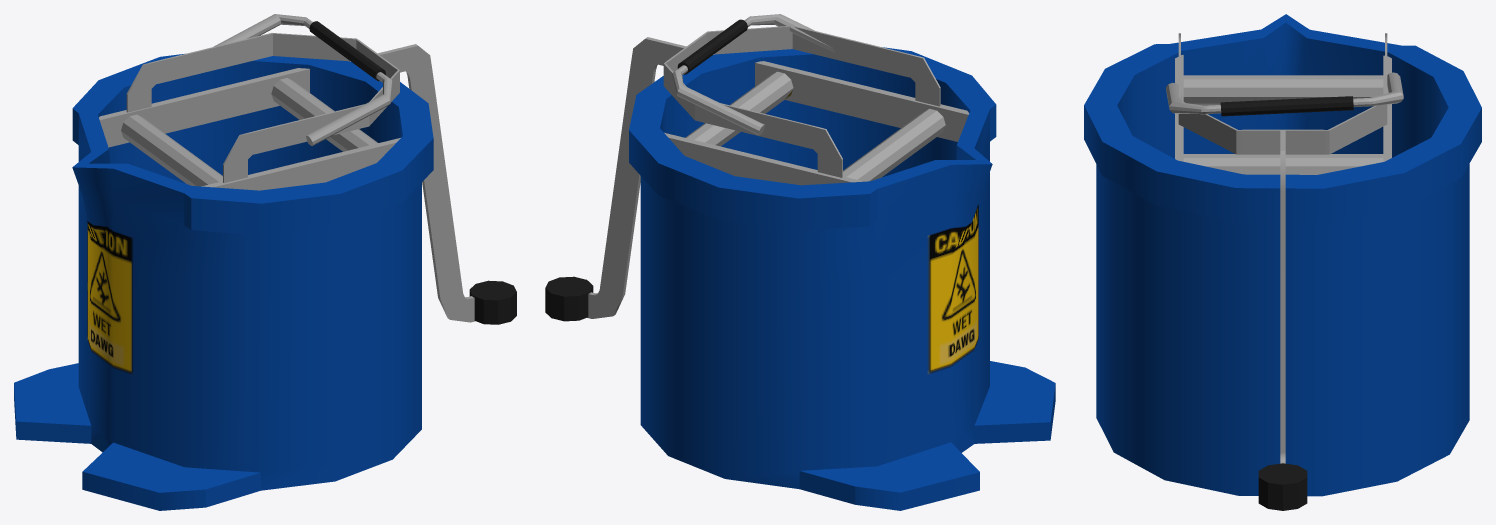
Rendered from MopBucket.fbx.
3 views of the same model, side by side, from view 1: azimuth 30°, elevation 25°; view 2: azimuth 150°, elevation 25°; view 3: azimuth 270°, elevation 25° (orthographic). The views are drawn at different scales.
Visible parts, largest first — view 1: mopBucket, metalfeet, othermetalbit1, mopBucketHandle2, othermetalbit, metal_bit1, metal_bit, feet; view 2: mopBucket, metalfeet, othermetalbit, othermetalbit1, mopBucketHandle2, metal_bit1, metal_bit, feet; view 3: mopBucket, metalfeet, metal_bit1, mopBucketHandle2, metal_bit, feet, othermetalbit, othermetalbit1.
Boxes of the visible parts, x1=… form: mopBucket: x1=14, y1=53, x2=433, y2=510; metalfeet: x1=126, y1=33, x2=475, y2=322; othermetalbit1: x1=99, y1=68, x2=309, y2=147; mopBucketHandle2: x1=213, y1=14, x2=392, y2=146; othermetalbit: x1=201, y1=138, x2=400, y2=190; metal_bit1: x1=121, y1=114, x2=222, y2=186; metal_bit: x1=271, y1=78, x2=378, y2=151; feet: x1=469, y1=280, x2=516, y2=324; mopBucket: x1=629, y1=47, x2=1055, y2=510; metalfeet: x1=587, y1=26, x2=940, y2=318; othermetalbit: x1=755, y1=61, x2=969, y2=141; othermetalbit1: x1=664, y1=132, x2=863, y2=185; mopBucketHandle2: x1=672, y1=14, x2=835, y2=135; metal_bit1: x1=843, y1=108, x2=945, y2=181; metal_bit: x1=685, y1=71, x2=793, y2=146; feet: x1=545, y1=276, x2=593, y2=321; mopBucket: x1=1084, y1=14, x2=1481, y2=496; metalfeet: x1=1178, y1=33, x2=1387, y2=463; metal_bit1: x1=1183, y1=75, x2=1383, y2=105; mopBucketHandle2: x1=1166, y1=72, x2=1403, y2=116; metal_bit: x1=1183, y1=154, x2=1383, y2=174; feet: x1=1258, y1=463, x2=1307, y2=510; othermetalbit: x1=1175, y1=55, x2=1183, y2=161; othermetalbit1: x1=1383, y1=55, x2=1391, y2=161.
Bounding box in the file's own units: 3.08 × 2.21 × 2.13.
